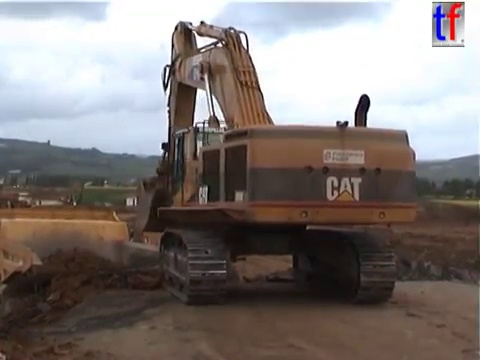excavator: (131, 17, 420, 307), (56, 180, 87, 207)
truck: (1, 206, 204, 339), (126, 222, 245, 284), (1, 189, 35, 210)
